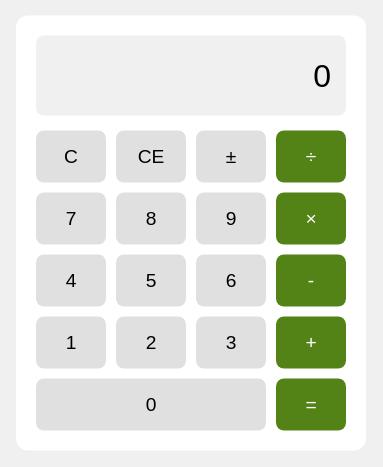
Test: basic arithmetic operations › basic addition
The image size is (383, 467).
Click the button "1" at (71, 342), box [36,316,106,368]
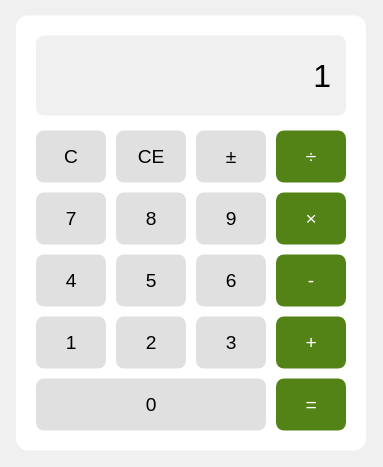
Click the button "+" at (311, 342), box [276,316,346,368]
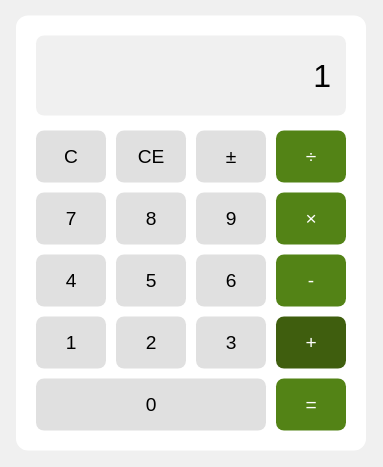
Click the button "2" at (151, 342), box [116,316,186,368]
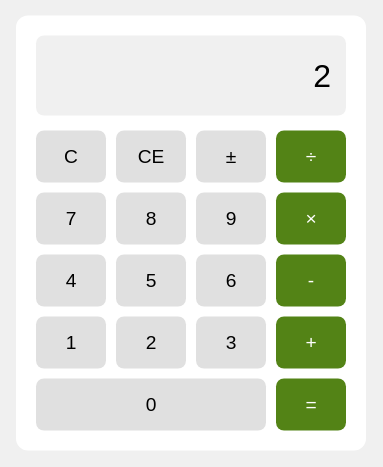
Click the button "=" at (311, 404), box [276,378,346,430]
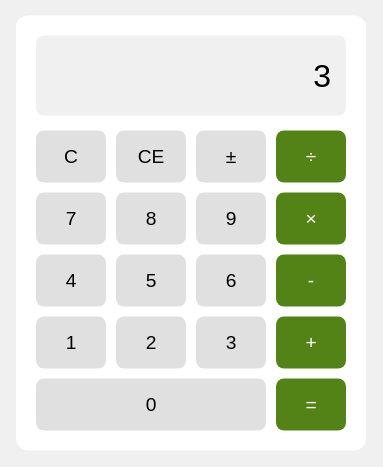
Result: the text "0" reads "3" at [313,57,331,93]
